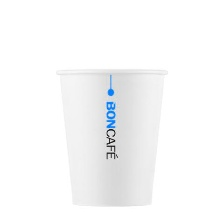paper_cup: (51, 62, 172, 210)
